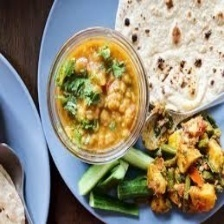roti: (113, 0, 224, 118)
